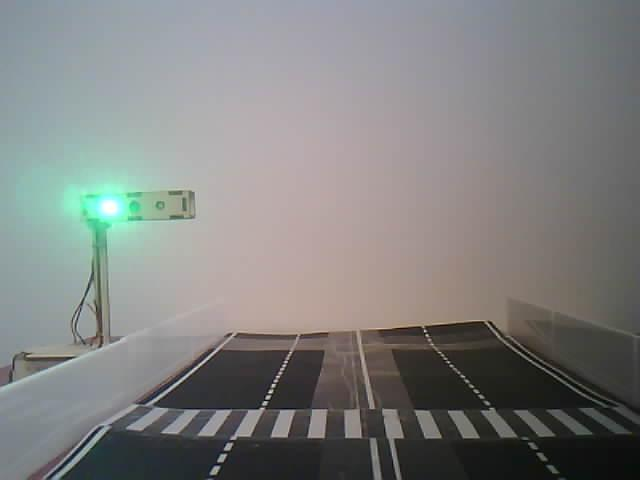crosswalk: (95, 396, 633, 442)
green: (55, 177, 200, 327)
